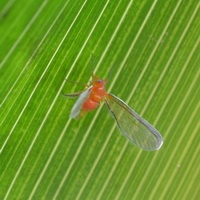insect: (65, 74, 162, 150)
